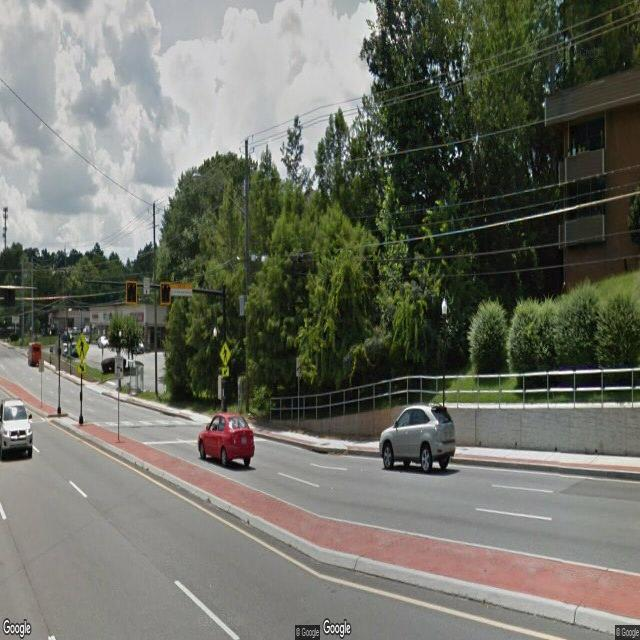shelter: (128, 360, 144, 396)
trash_can: (126, 382, 130, 393)
